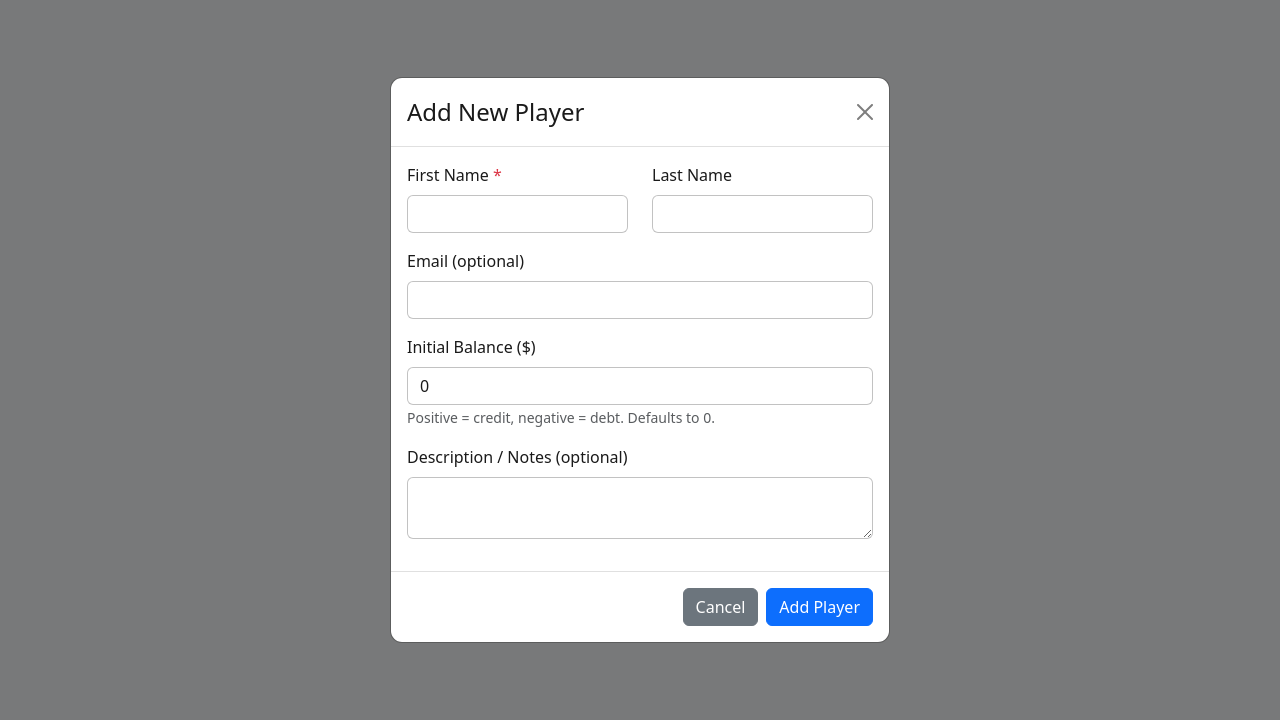
it: AddPlayerModal › requires a description to disambiguate an exact first+last name duplicate
Type "Ada" into the field labelled "First Name *".
click(518, 214); type("Ada")  # box [407,195,628,233]
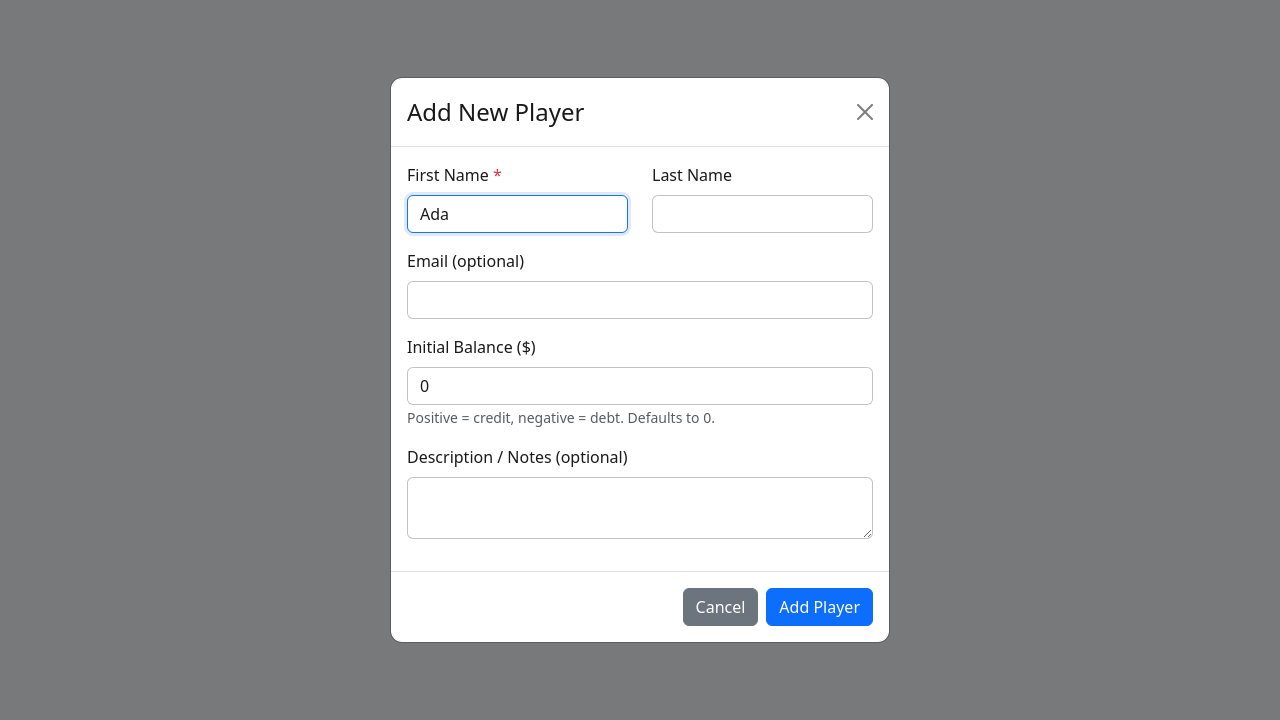
Type "Lovelace" into the field labelled "Last Name".
click(762, 214); type("Lovelace")  # box [652,195,873,233]
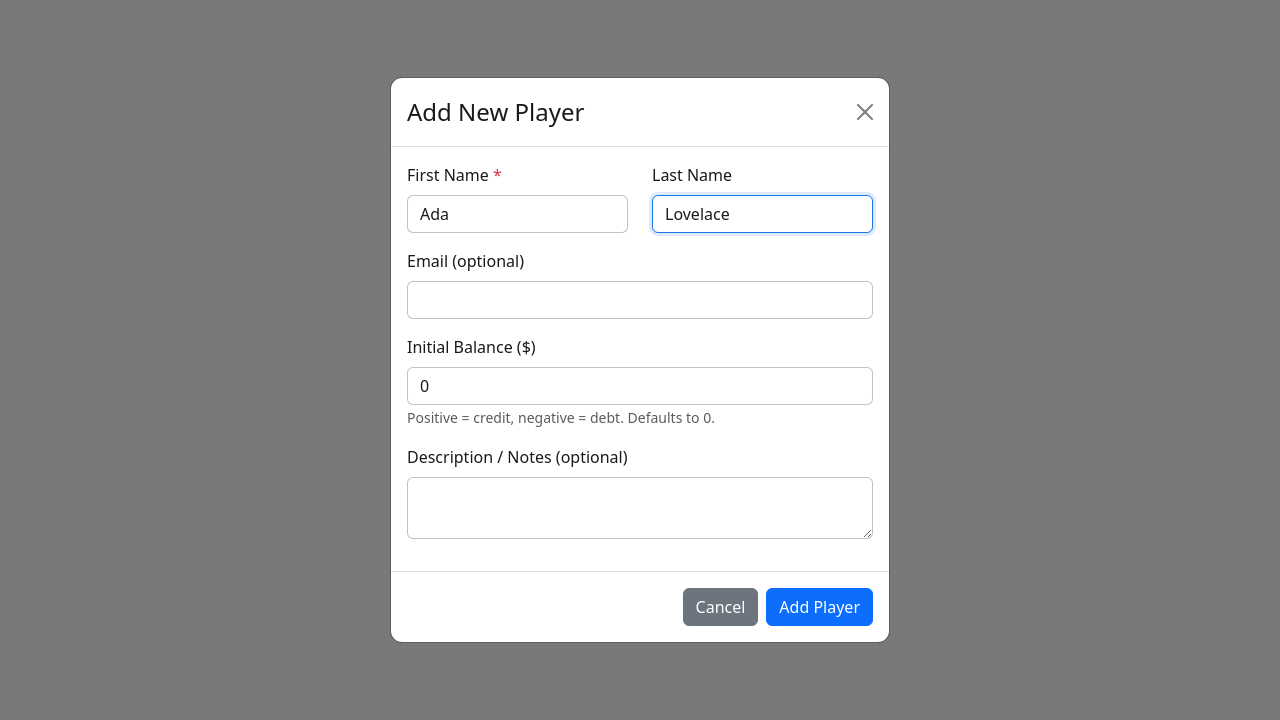
Click the button "Add Player".
click(820, 607)  # box [766,588,873,626]
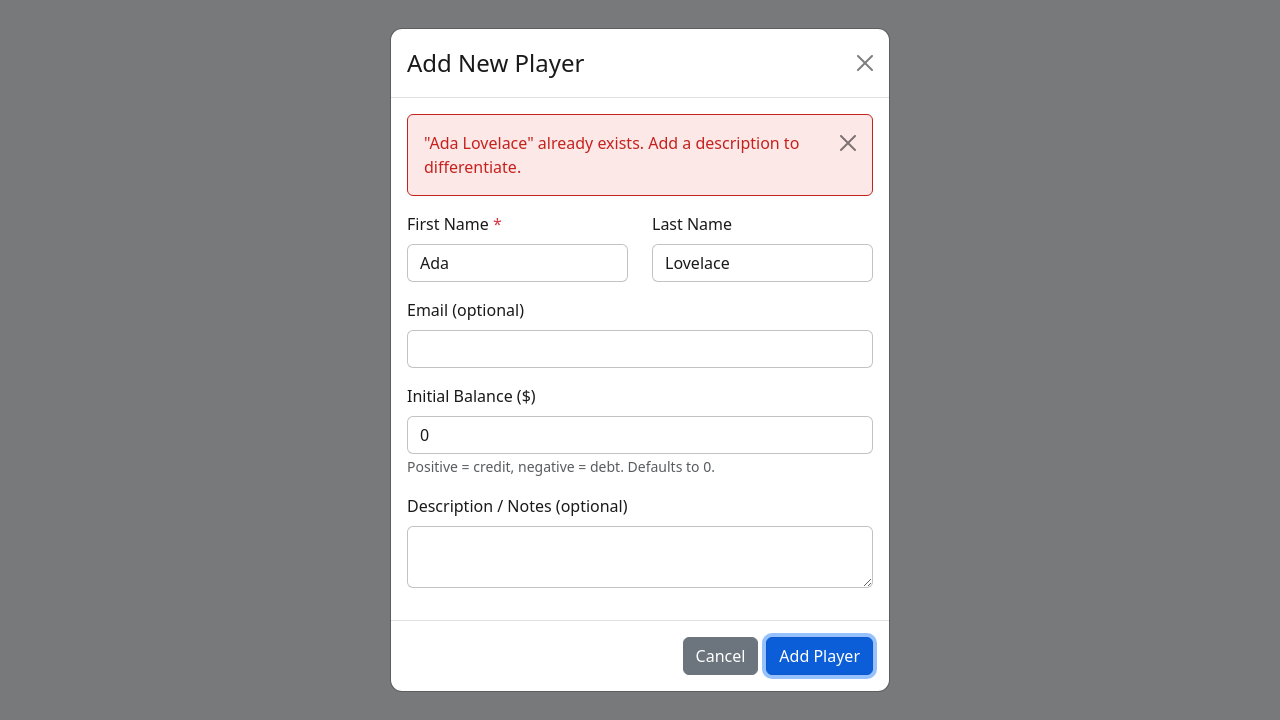
Expected: the text "\"Ada Lovelace\" already exists. Add a description to differentiate." is shown, [407,114,873,196]
